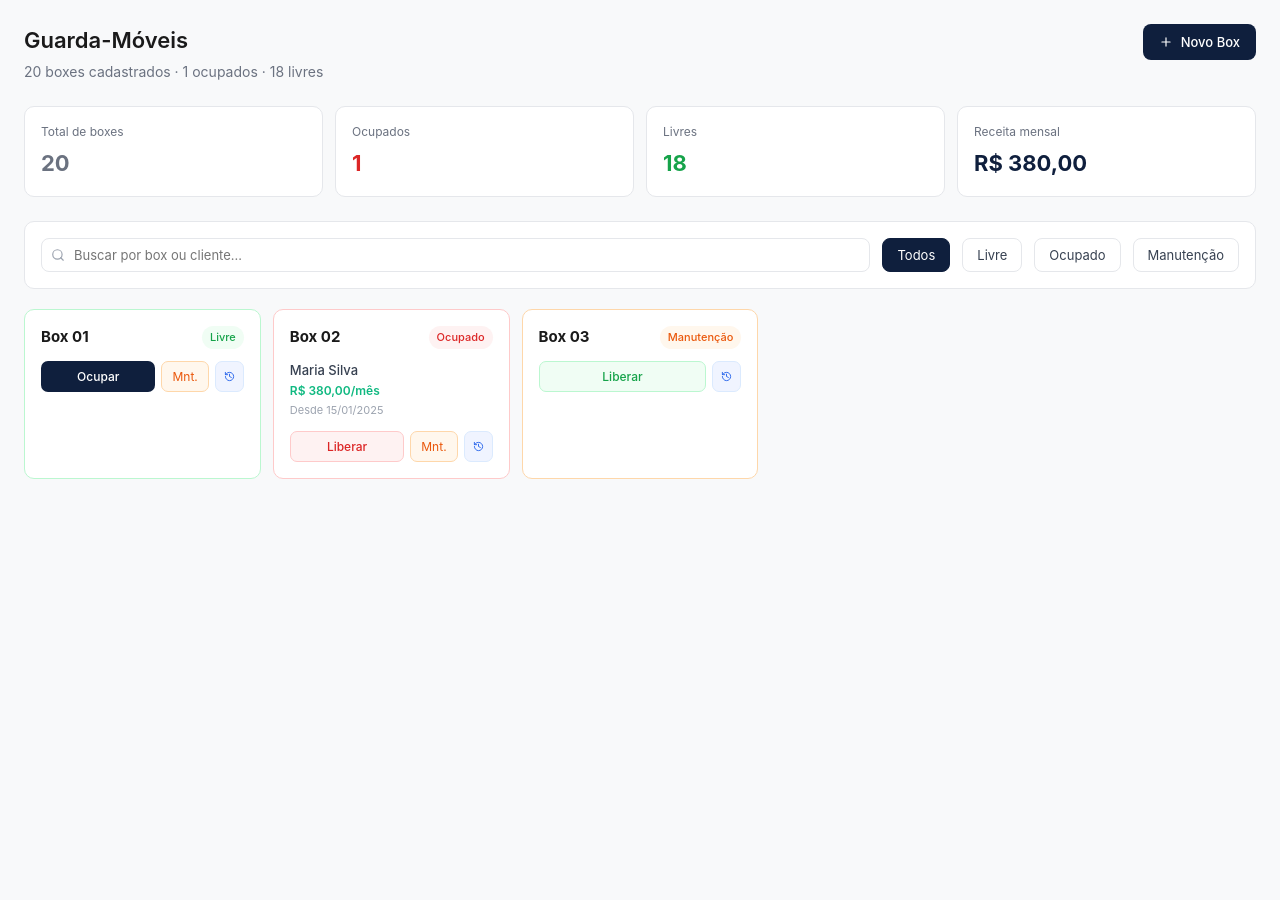
GuardaMoveis › abre modal ao clicar em Ocupar
Click the button "Ocupar" at [98, 376], box [41,360,156,392]
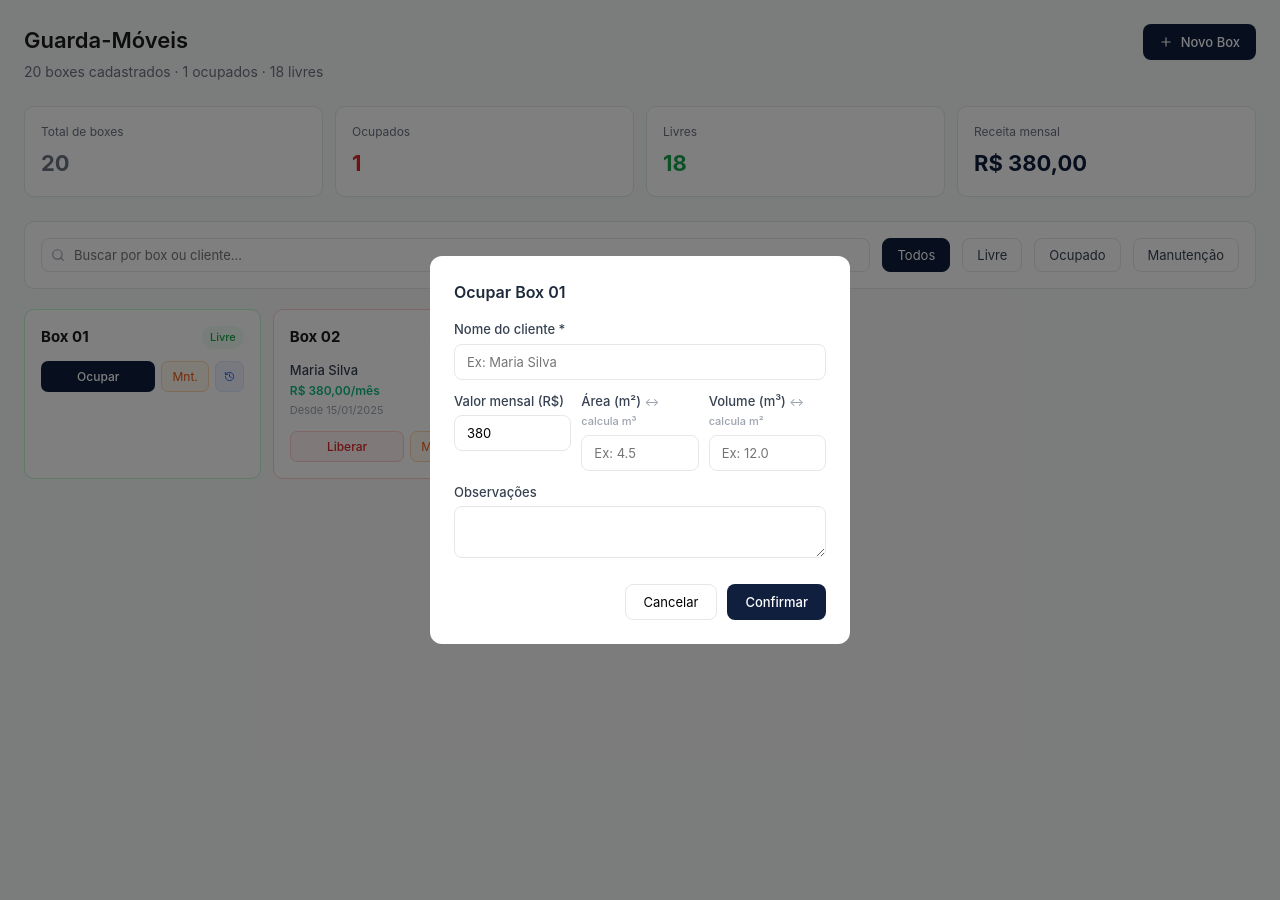
Expected: the text "Ocupar Box 01" is shown, [454,282,566,302]
